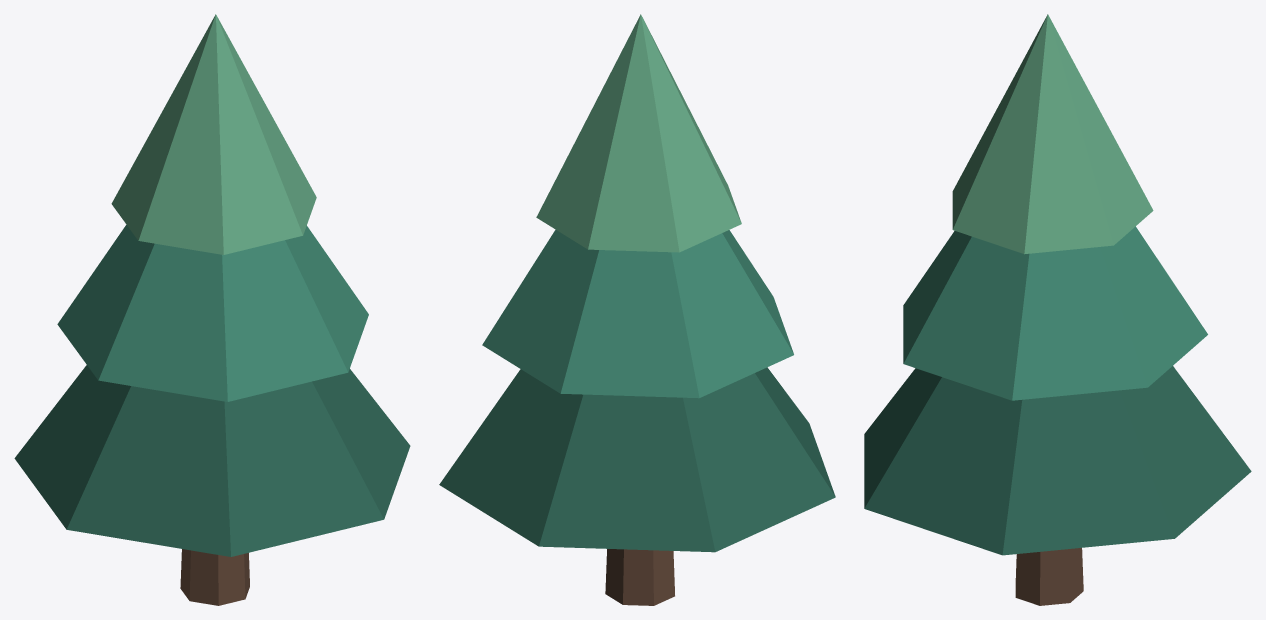
File: pine.glb
The picture shows the model from 3 angles, left to right: view 1: azimuth 30°, elevation 25°; view 2: azimuth 150°, elevation 25°; view 3: azimuth 270°, elevation 25°; orthographic projection.
Parts seen in each view (by area): view 1: pine-crown, pine-crown.001, pine-crown.002, pine-trunk; view 2: pine-crown, pine-crown.001, pine-crown.002, pine-trunk; view 3: pine-crown, pine-crown.001, pine-crown.002, pine-trunk.
Boxes of the visible parts, x1,y1,x2,y2 form: pine-crown: (14,365,410,556); pine-crown.001: (57,225,368,401); pine-crown.002: (111,14,316,254); pine-trunk: (180,549,249,605); pine-crown: (439,367,835,552); pine-crown.001: (482,229,793,398); pine-crown.002: (536,14,741,252); pine-trunk: (605,549,674,605); pine-crown: (864,366,1251,555); pine-crown.001: (903,226,1207,400); pine-crown.002: (952,14,1153,254); pine-trunk: (1015,548,1083,605).
Bounding box in the file's own units: 2.11 × 3.37 × 2.05.
